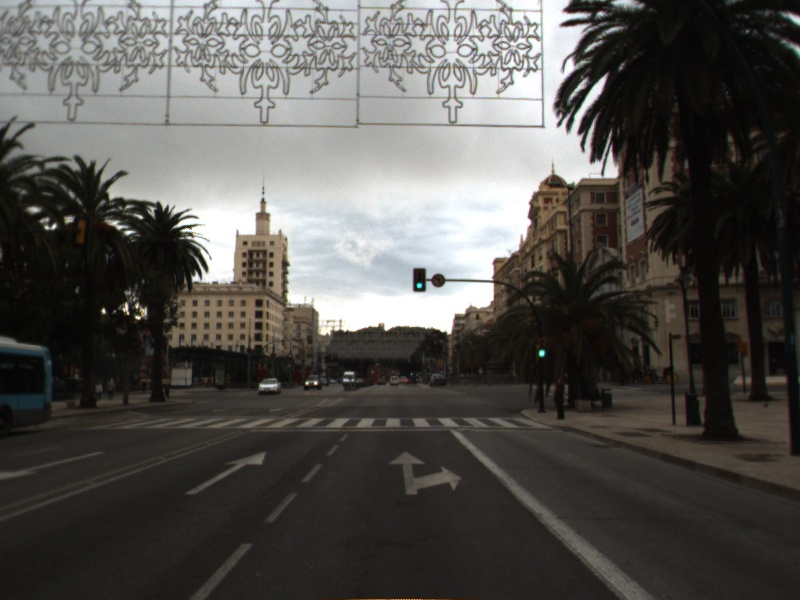STRAIGHT: (182, 449, 268, 497)
STRAIGHT_RIGHT: (386, 448, 464, 497)
